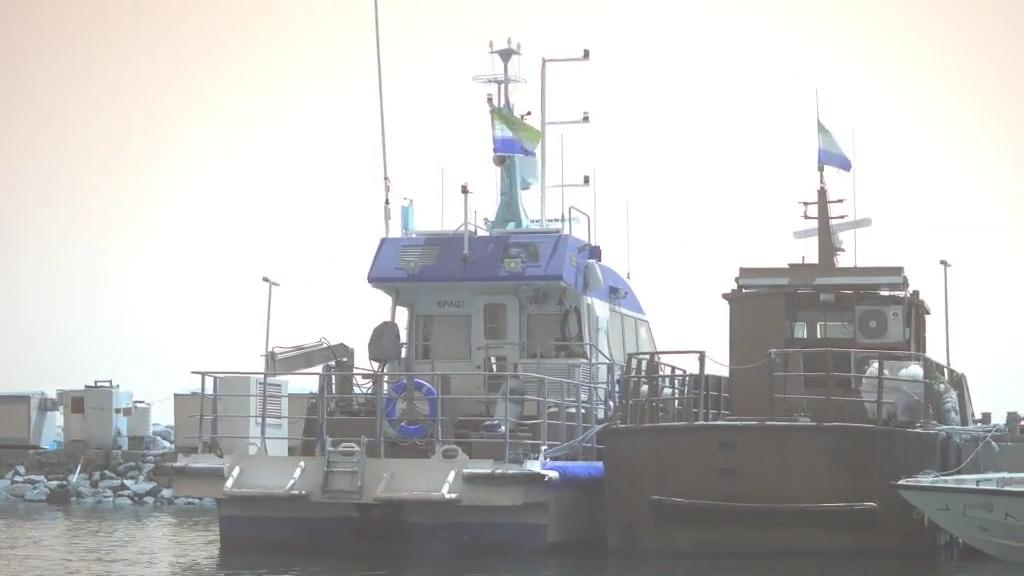PassengerShip: (204, 37, 686, 564), (588, 149, 1016, 561)
